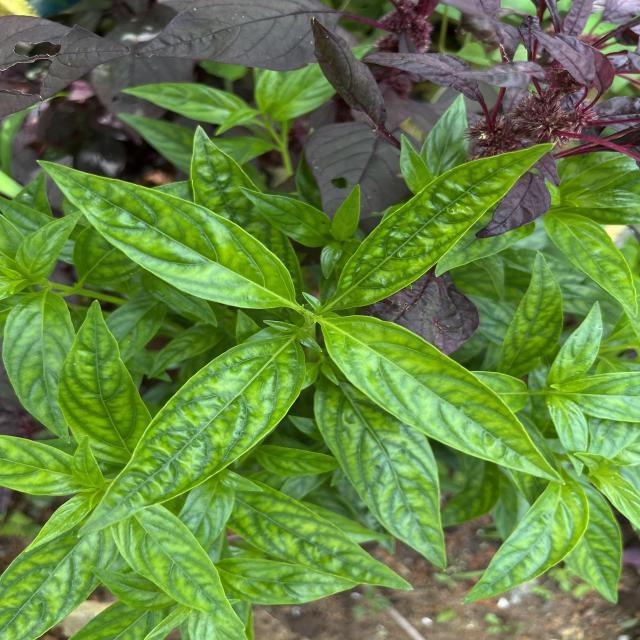Andrographis paniculata: (74, 328, 307, 542), (317, 313, 568, 489), (32, 157, 298, 311), (325, 140, 560, 312), (312, 378, 448, 573), (230, 480, 416, 592), (112, 503, 248, 632), (110, 504, 248, 630), (460, 477, 591, 605), (54, 299, 156, 461), (2, 290, 78, 443), (543, 212, 638, 317), (492, 248, 564, 380), (235, 184, 332, 248)
